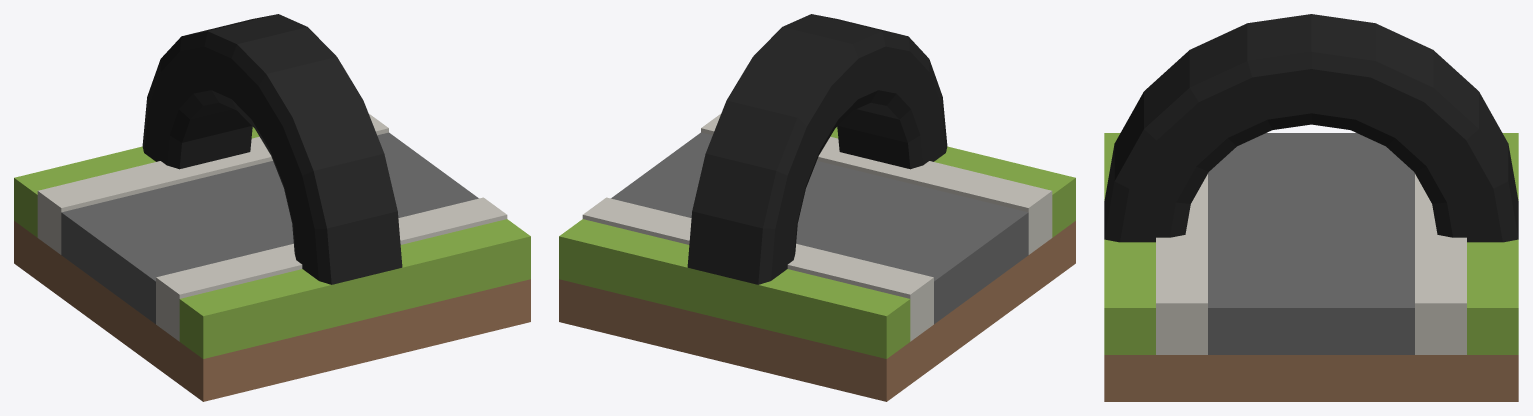
File: track-tire.obj
The picture shows the model from 3 angles, left to right: view 1: azimuth 30°, elevation 25°; view 2: azimuth 150°, elevation 25°; view 3: azimuth 270°, elevation 25°; orthographic projection. The views are drawn at different scales.
Visible parts, largest first — view 1: track-tire_Cube.629; view 2: track-tire_Cube.629; view 3: track-tire_Cube.629.
Part boxes in pixels (x1,y1,x2,y2): track-tire_Cube.629: (14,14,530,401); track-tire_Cube.629: (559,14,1075,401); track-tire_Cube.629: (1104,14,1518,401).
Bounding box in the file's own units: 8 × 6 × 8.
Materials: 1 (1 with a texture image).
